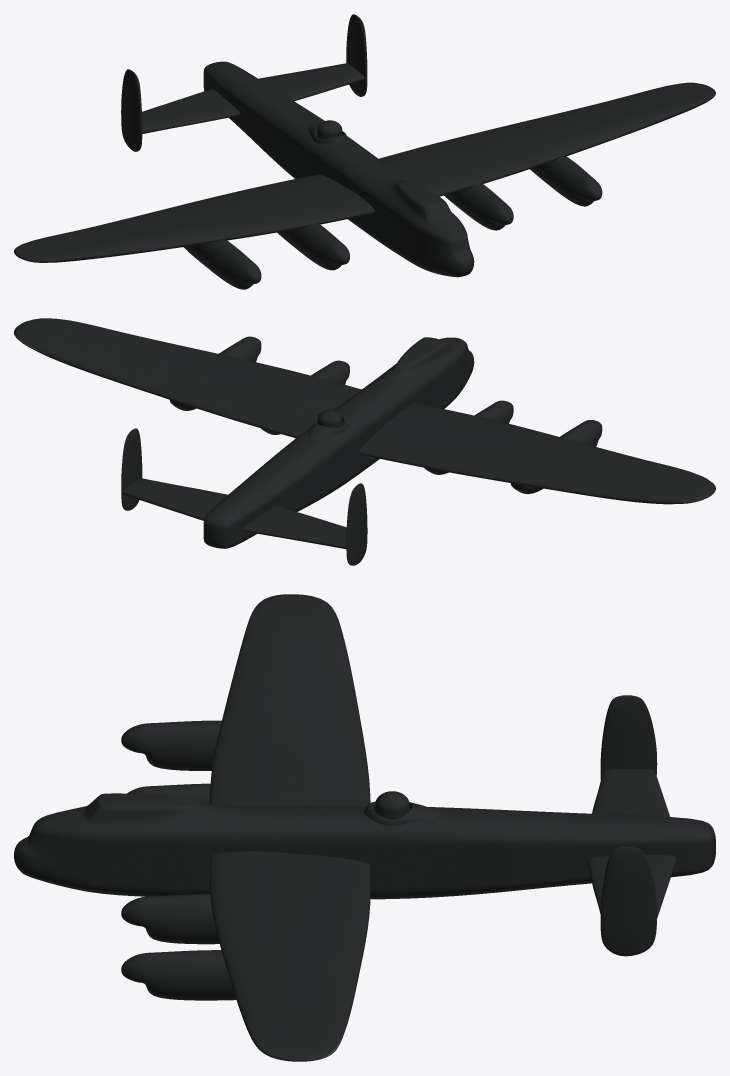
Rendered from PlaneM.glb.
The picture shows the model from 3 angles, top to bottom: view 1: azimuth 30°, elevation 25°; view 2: azimuth 150°, elevation 25°; view 3: azimuth 270°, elevation 25°; orthographic projection. The views are drawn at different scales.
Visible parts, largest first — view 1: Airplane_Combined; view 2: Airplane_Combined; view 3: Airplane_Combined.
Part boxes in pixels (bbox=[...]): Airplane_Combined: bbox=[14, 14, 715, 289]; Airplane_Combined: bbox=[14, 318, 715, 565]; Airplane_Combined: bbox=[14, 594, 715, 1061].
Size of the model in its own units: 0.0763 by 0.00952 by 0.0485.
1 material, 1 textured.
